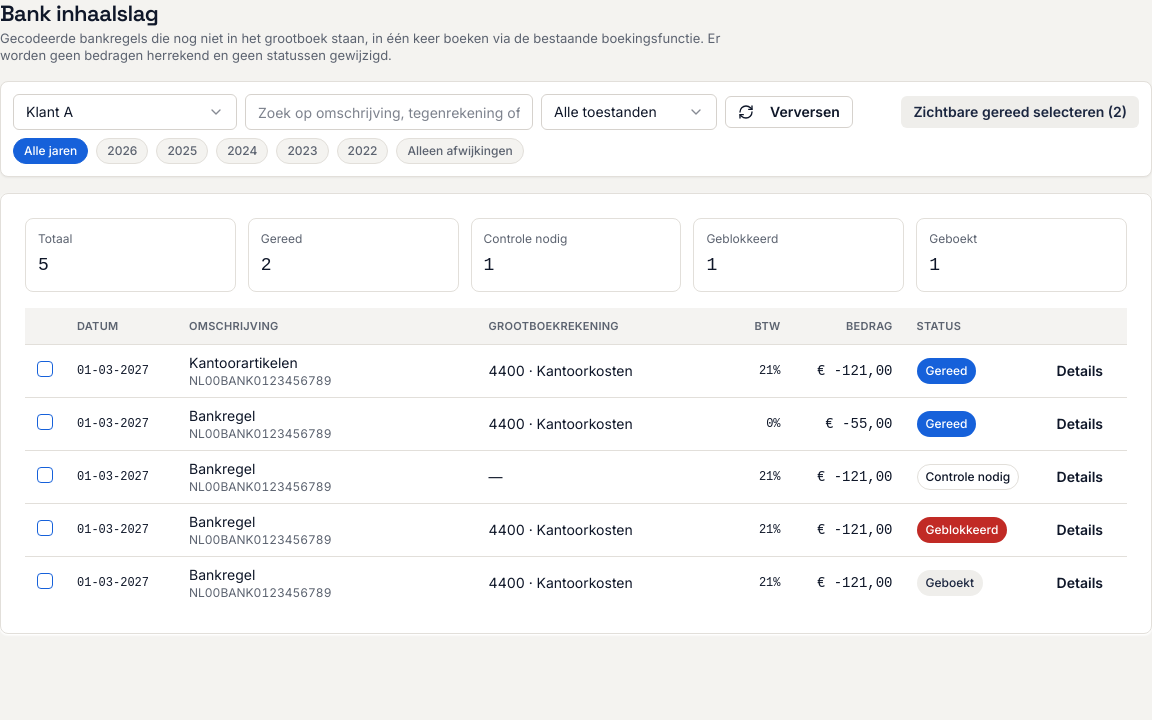
Test: selectie › 3c. 'zichtbare gereed selecteren' pakt uitsluitend de gereed-regels
Click the button with test id "inhaalslag-selecteer-zichtbaar". click: (1020, 112)
box: x1=901 y1=96 x2=1139 y2=128
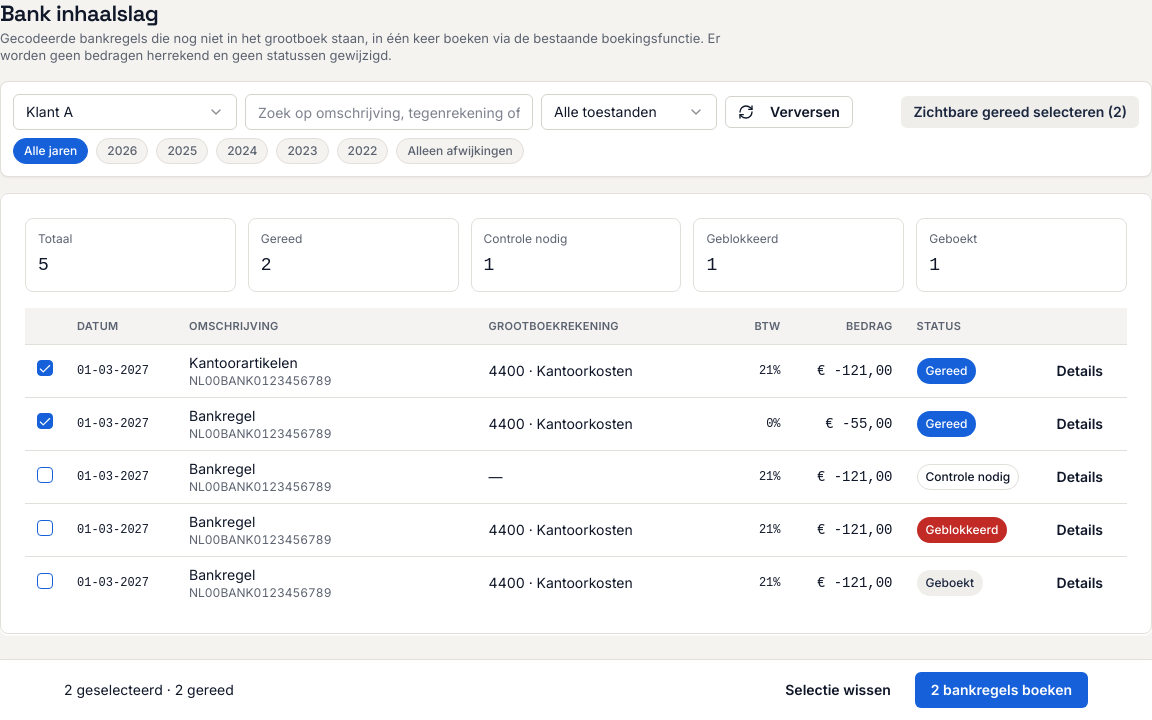
Expected: the text with test id "bulkbalk-geselecteerd" reads "2", x1=64 y1=681 x2=72 y2=698
Expected: the text with test id "bulkbalk-gereed" reads "2", x1=175 y1=681 x2=183 y2=698
